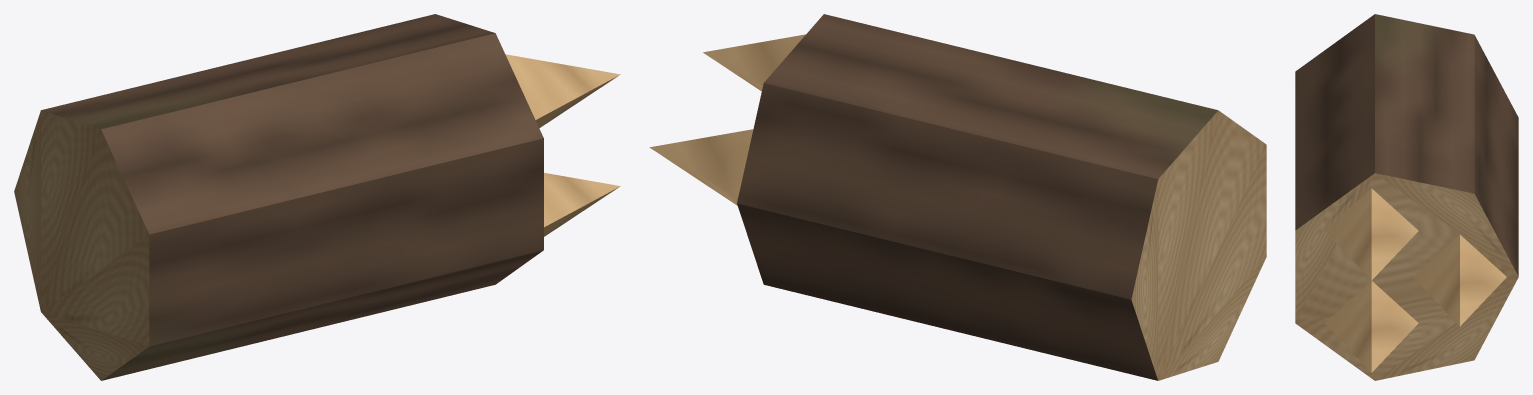
The model's file is SM_Debris_LogChunk.fbx.
3 views of the same model, side by side, from view 1: azimuth 30°, elevation 25°; view 2: azimuth 150°, elevation 25°; view 3: azimuth 270°, elevation 25° (orthographic). The views are drawn at different scales.
Parts seen in each view (by area): view 1: SM_Debris_LogChunk; view 2: SM_Debris_LogChunk; view 3: SM_Debris_LogChunk.
Part boxes in pixels (<box>): SM_Debris_LogChunk: <box>14,14,620,380</box>; SM_Debris_LogChunk: <box>649,14,1266,380</box>; SM_Debris_LogChunk: <box>1295,14,1518,380</box>.
Bounding box in the file's own units: 2.1 × 0.9749 × 0.9505.
Materials: 1 (1 with a texture image).
